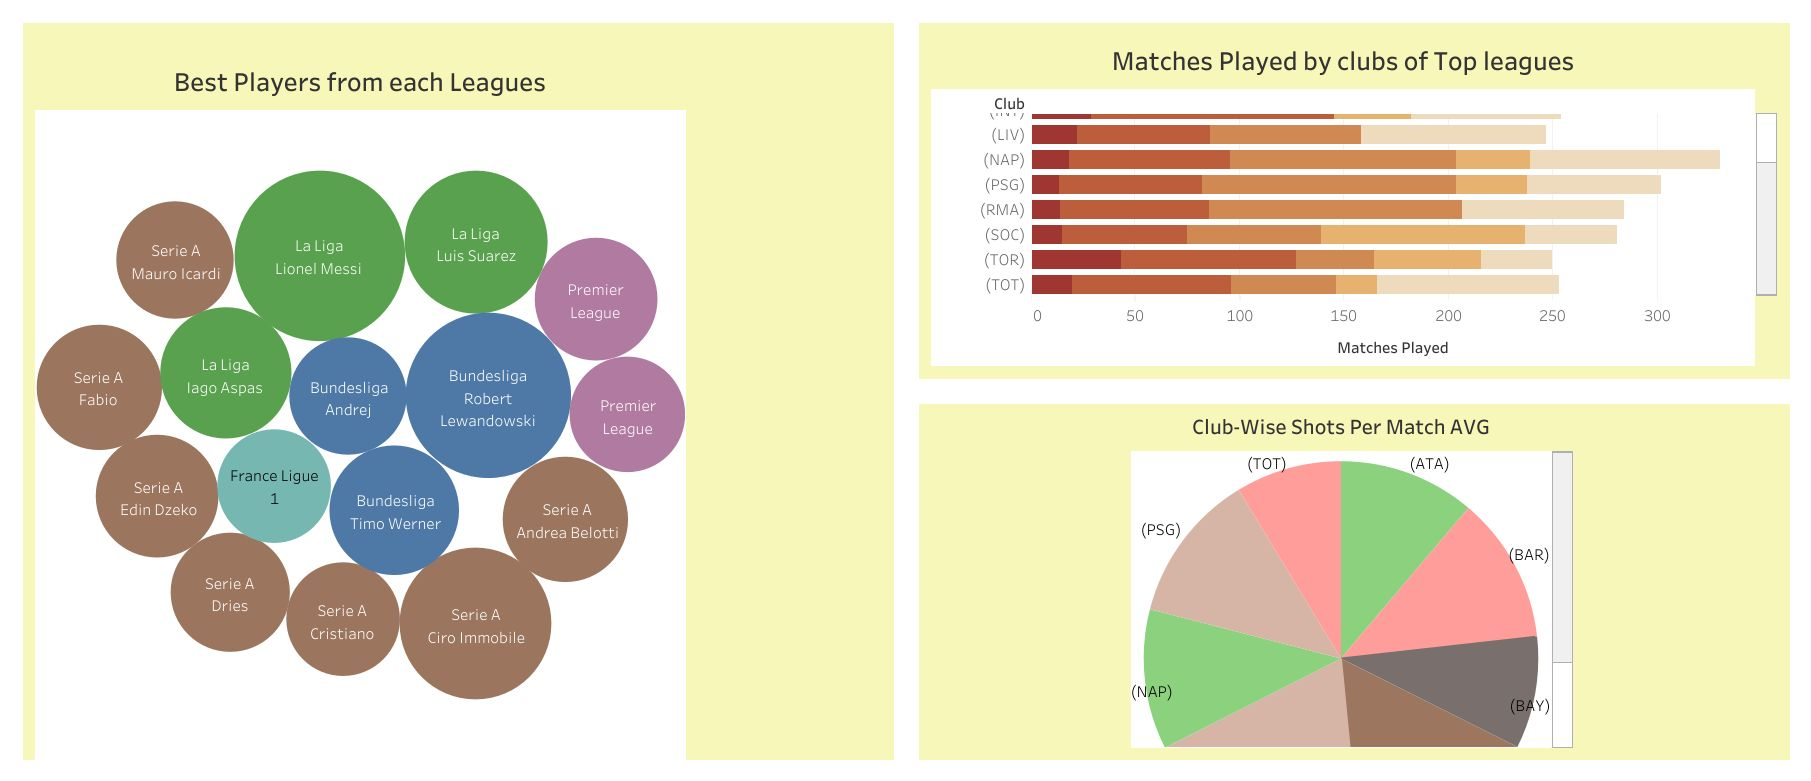

The page's visual inventory and layout, read from the dashboard file:
{"tool":"tableau","page":{"name":"Dashboard 2","canvas":[1000,1000],"units":"permille","ordinal":1},"visuals":[{"type":"worksheet","title":"Sheet 4","mark":"Circle","box":[5.5,9.3,494.4,981.4]},{"type":"worksheet","title":"Sheet 6","mark":"Automatic","rows":["Matches_Played"],"cols":["Country","Club"],"box":[500,9.3,494.5,490.7]},{"type":"worksheet","title":"Sheet 7","mark":"Pie","box":[500,500,494.5,490.7]}]}

Visuals, with their boxes on the dashboard's canvas, which has no fixed pixel size, in thousandths of its width and height (x1, y1, x2, y2). These are canvas units, not pixel positions in the 1811x781 screenshot, which may show the page scaled, cropped or inside an application window:
"Sheet 4" worksheet (Circle marks): [left=6, top=9, right=500, bottom=991]
"Sheet 6" worksheet: [left=500, top=9, right=994, bottom=500]
"Sheet 7" worksheet (Pie marks): [left=500, top=500, right=994, bottom=991]
